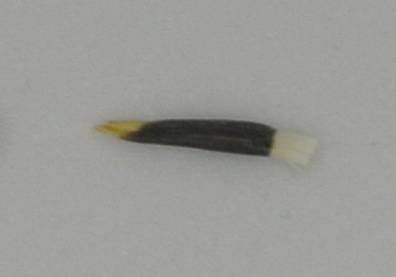เมล็ดดีติดกัน: (84, 116, 324, 173)
